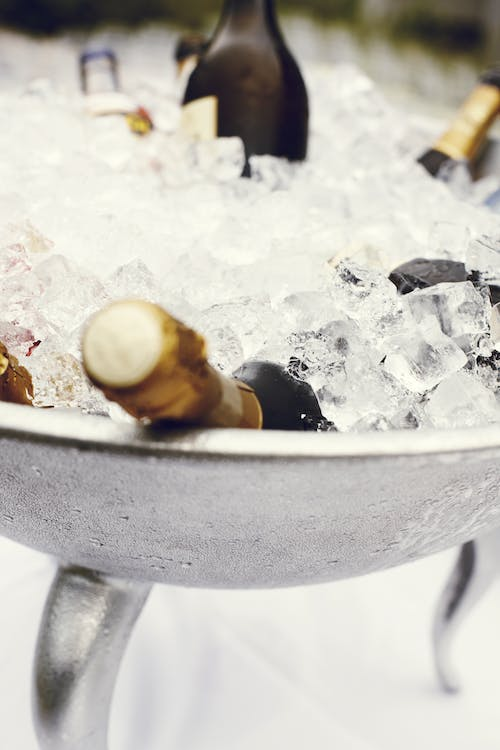alcohol: (78, 296, 324, 433), (179, 0, 311, 181), (414, 70, 500, 186), (74, 46, 156, 137)
